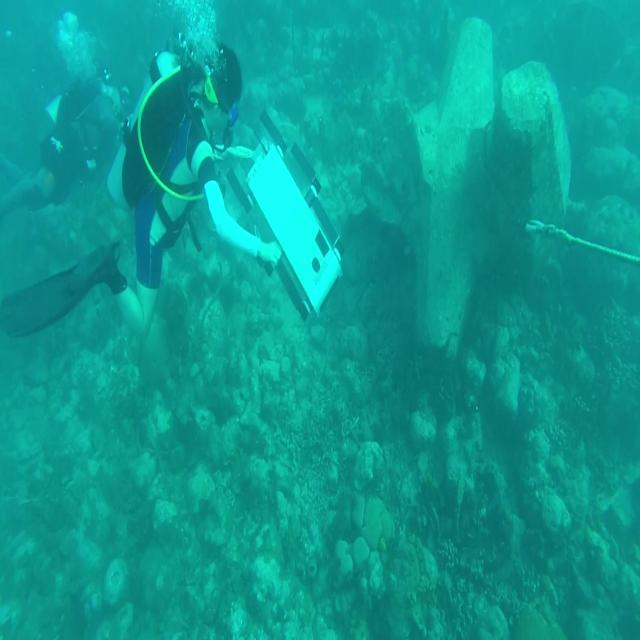human: (1, 39, 283, 341), (0, 65, 130, 221)
